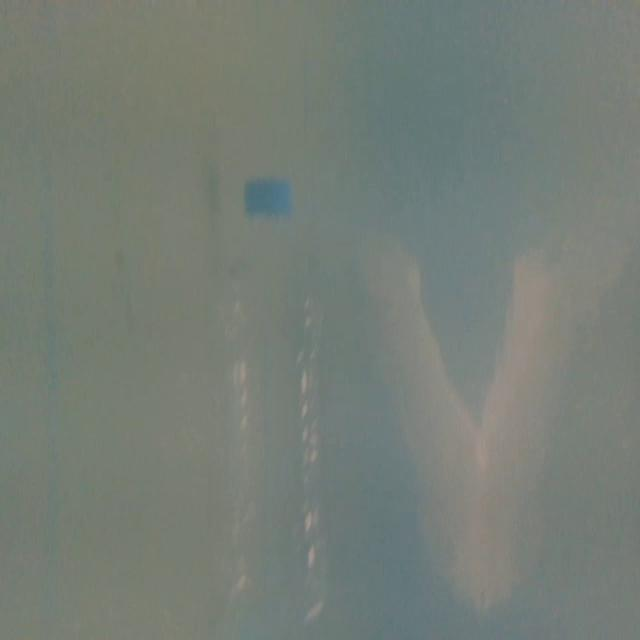plastic bags: (365, 224, 594, 601)
plastic bottle: (225, 170, 334, 636)
